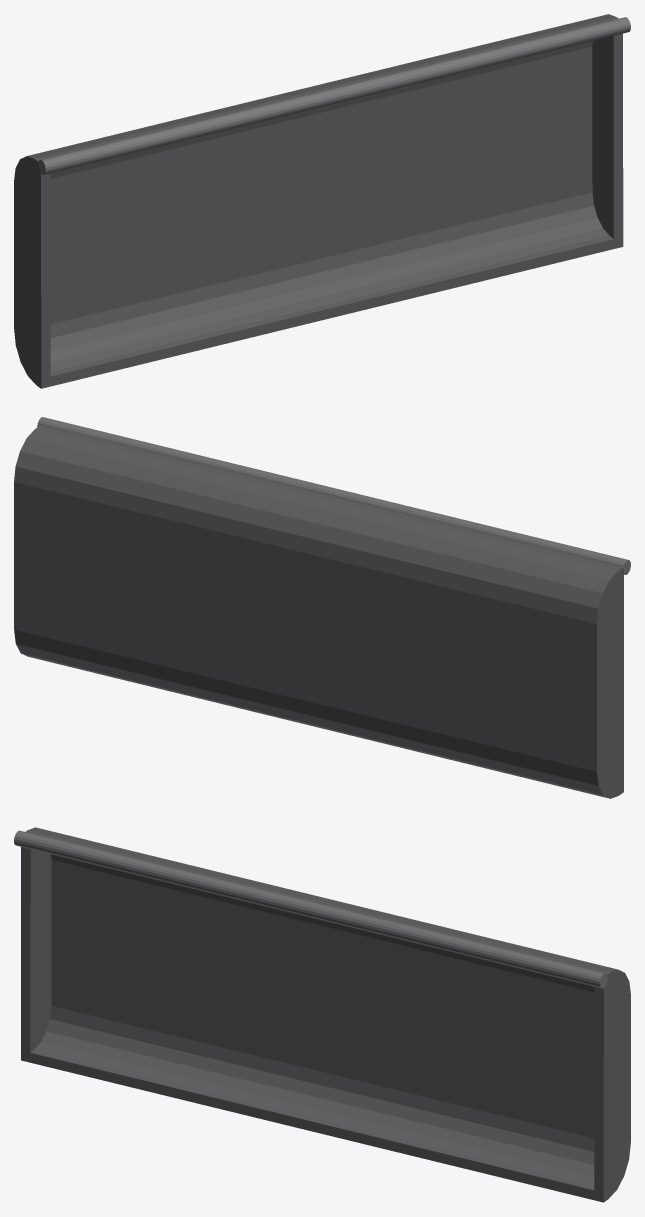
File: Fusebox_Door.fbx
The picture shows the model from 3 angles, top to bottom: view 1: azimuth 30°, elevation 25°; view 2: azimuth 150°, elevation 25°; view 3: azimuth 330°, elevation 25°; orthographic projection.
Parts seen in each view (by area): view 1: Cube.063; view 2: Cube.063; view 3: Cube.063.
Part boxes in pixels (x1=…): Cube.063: x1=14, y1=14, x2=630, y2=388; Cube.063: x1=14, y1=417, x2=630, y2=798; Cube.063: x1=14, y1=827, x2=630, y2=1202.
Bounding box in the file's own units: 87.27 × 32.78 × 8.52.
